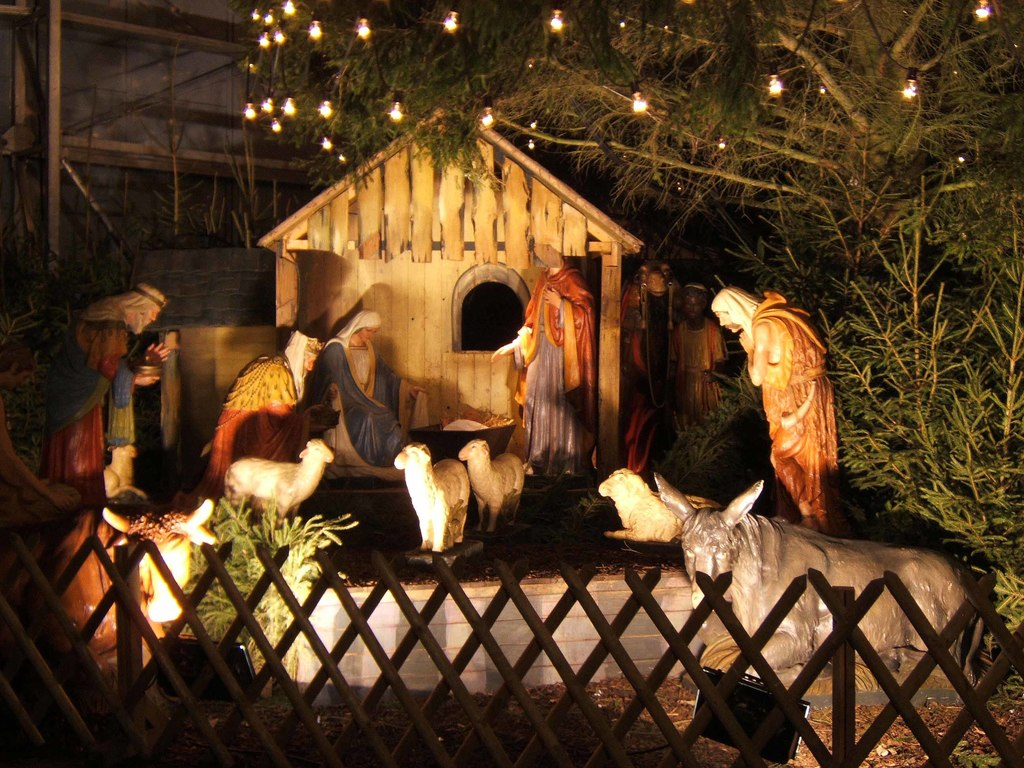Person: (0, 243, 836, 656), (314, 310, 432, 475)
